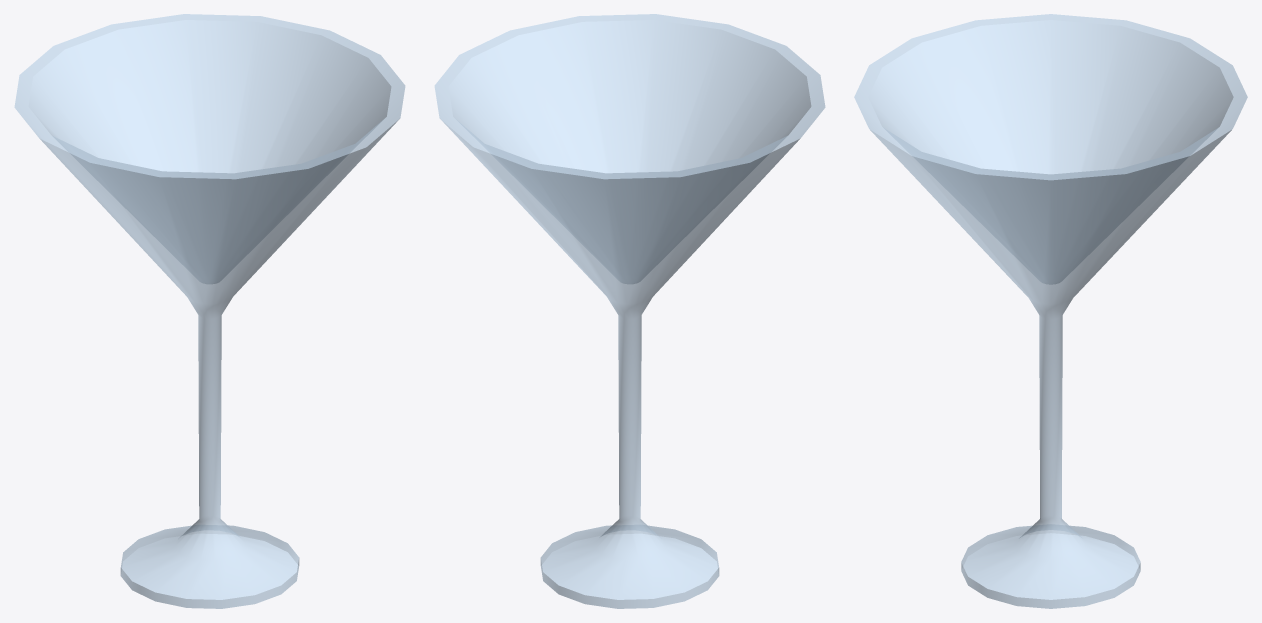
The model's file is CocktailGlass.FBX.
The picture shows the model from 3 angles, left to right: view 1: azimuth 30°, elevation 25°; view 2: azimuth 150°, elevation 25°; view 3: azimuth 270°, elevation 25°; orthographic projection.
Visible parts, largest first — view 1: CocktailGlass; view 2: CocktailGlass; view 3: CocktailGlass.
Boxes of the visible parts, <box> form: CocktailGlass: <box>14,14,405,608</box>; CocktailGlass: <box>434,14,825,608</box>; CocktailGlass: <box>854,14,1247,608</box>.
Bounding box in the file's own units: 44.75 × 59.42 × 44.75.
